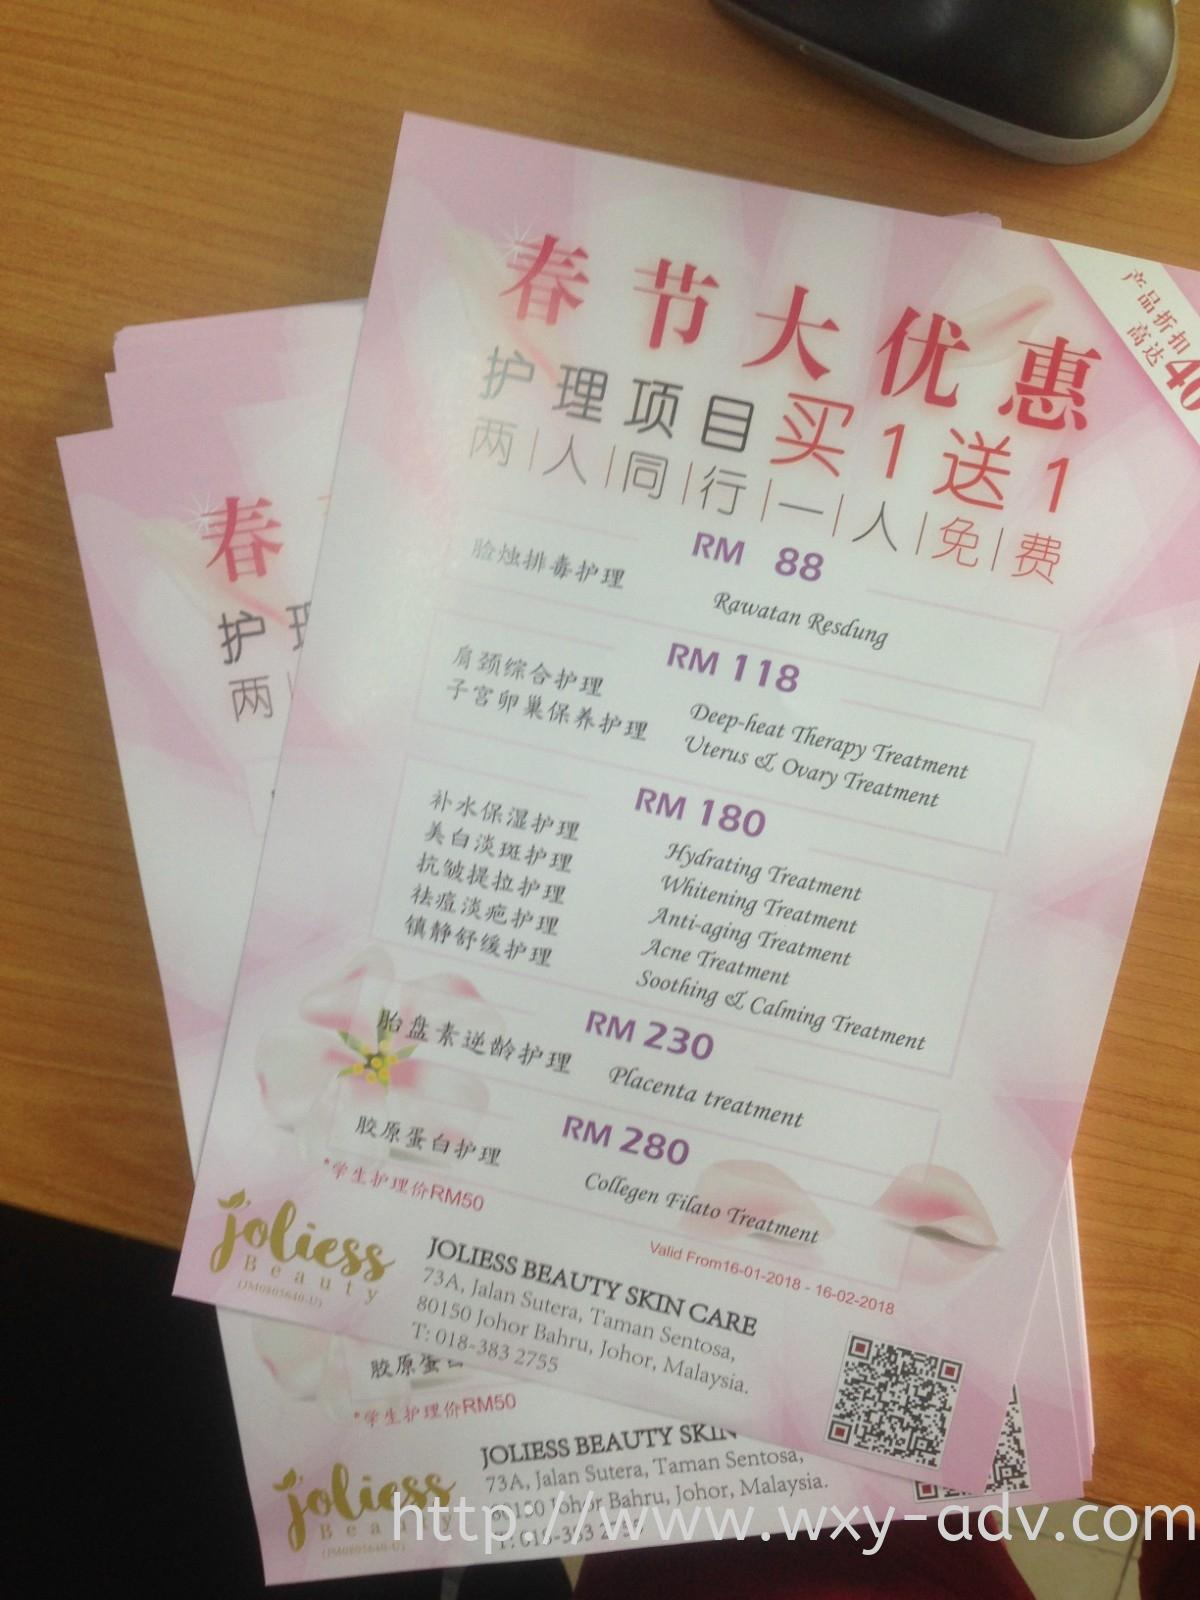paper: (62, 55, 1199, 1599)
